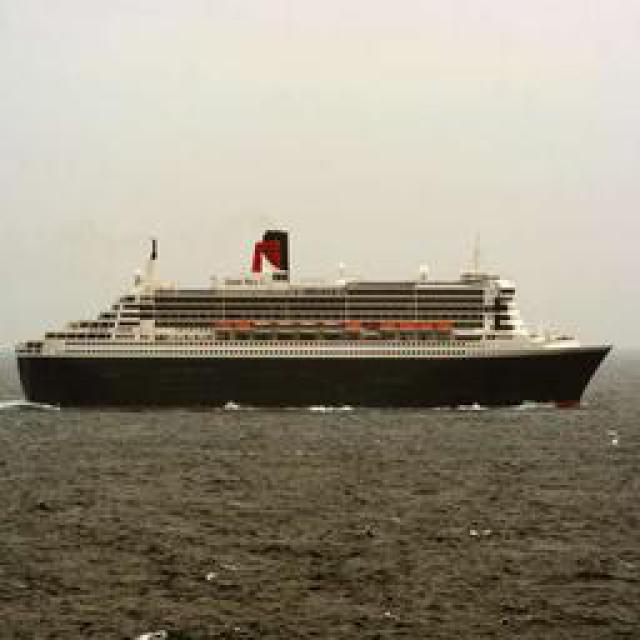Ship: (17, 261, 620, 409)
